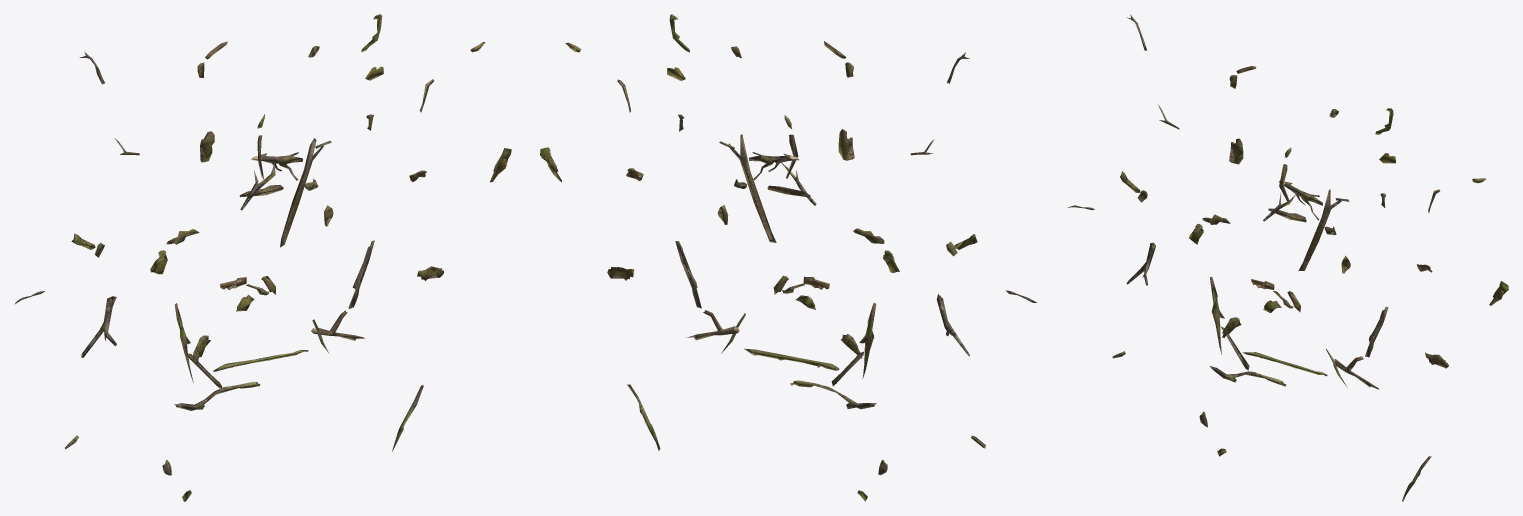
File: Debris_Wood_Stick.glb
3 renders of one model, left to right at view 1: azimuth 30°, elevation 25°; view 2: azimuth 150°, elevation 25°; view 3: azimuth 330°, elevation 25°, orthographic. The views are drawn at different scales.
Visible parts, largest first — view 1: set_0_group_0; view 2: set_0_group_0; view 3: set_0_group_0.
Boxes of the visible parts, x1,y1,x2,y2 form: set_0_group_0: [14, 14, 511, 501]; set_0_group_0: [540, 14, 1037, 501]; set_0_group_0: [1067, 14, 1508, 501].
Size of the model in its own units: 13.94 by 12.71 by 0.3526.
Materials: 1 (1 with a texture image).
